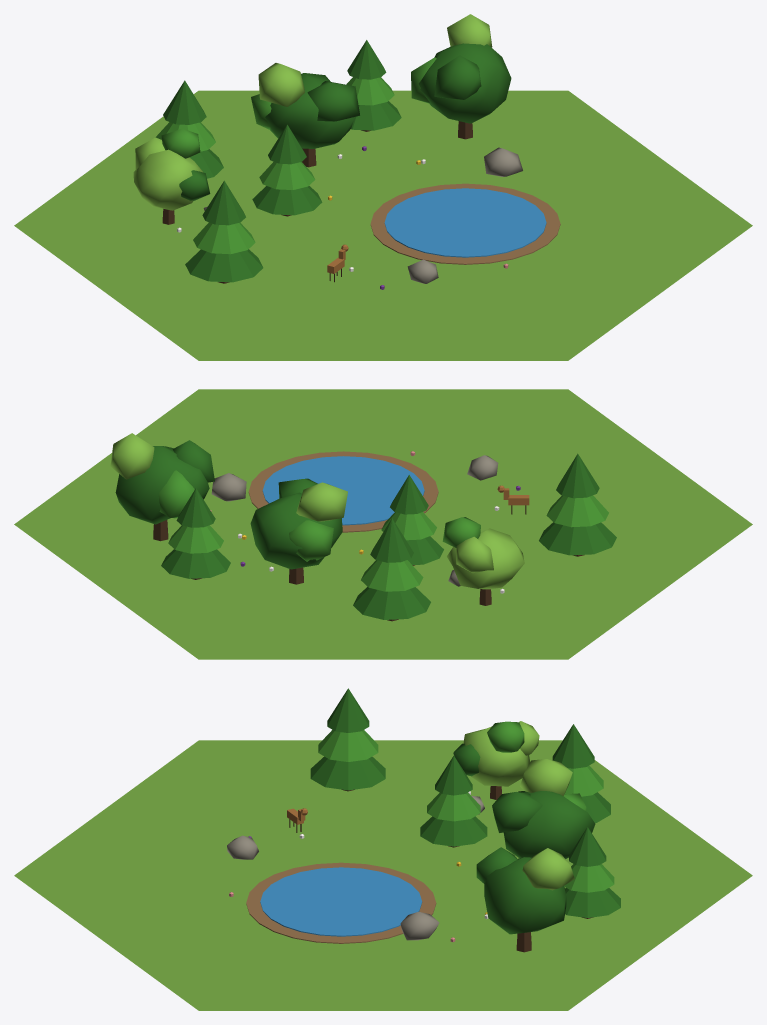
Rendered from district_preserve_1.fbx.
3 views of the same model, one above another, from view 1: azimuth 30°, elevation 25°; view 2: azimuth 150°, elevation 25°; view 3: azimuth 270°, elevation 25° (orthographic).
Parts seen in each view (by area): view 1: district_preserve_1; view 2: district_preserve_1; view 3: district_preserve_1.
Part boxes in pixels (bbox=[...]): district_preserve_1: bbox=[14, 14, 752, 360]; district_preserve_1: bbox=[14, 389, 752, 659]; district_preserve_1: bbox=[14, 688, 752, 1010].
Size of the model in its own units: 182 by 34.59 by 210.
